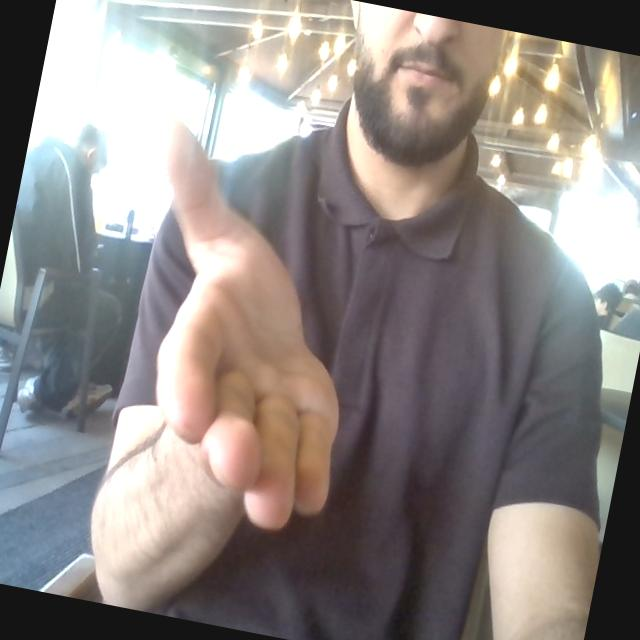Hand: (156, 120, 338, 528)
